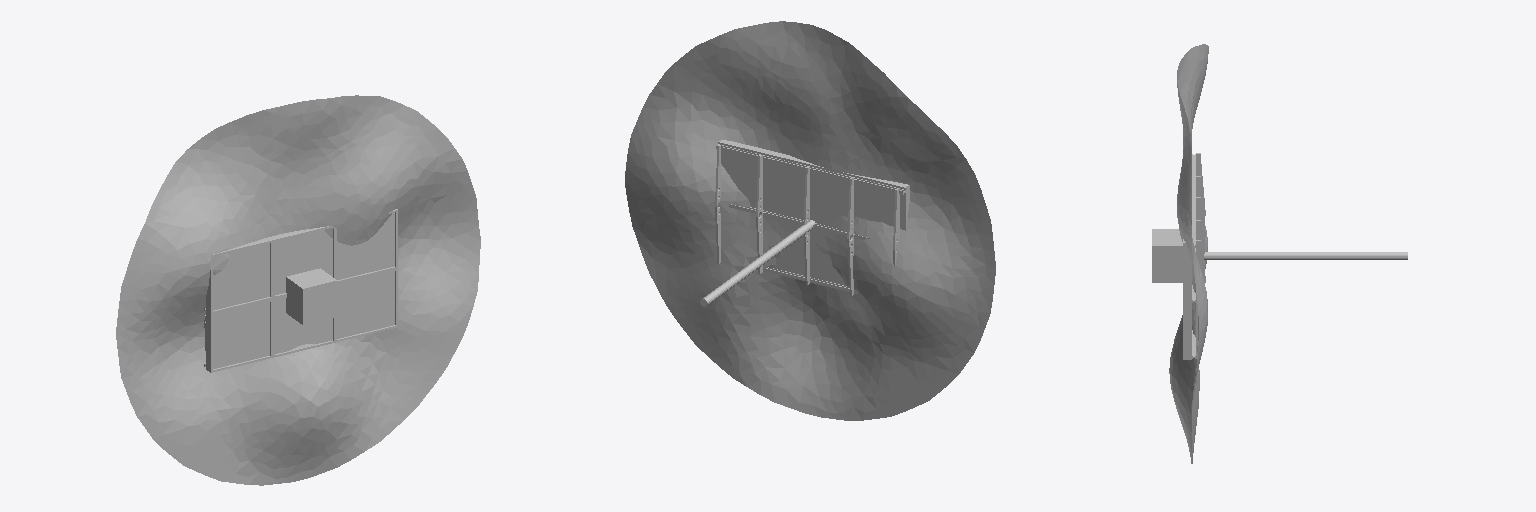
3 renders of one model, left to right at view 1: azimuth 30°, elevation 25°; view 2: azimuth 150°, elevation 25°; view 3: azimuth 270°, elevation 25°, orthographic.
Parts seen in each view (by area): view 1: Circle001, Panel, Box002; view 2: Circle001, Panel, Cylinder002; view 3: Circle001, Panel, Box002, Cylinder002.
Boxes of the visible parts, <box> form: Circle001: <box>116,95,480,485</box>; Panel: <box>204,209,397,372</box>; Box002: <box>286,268,336,324</box>; Circle001: <box>625,21,995,420</box>; Panel: <box>715,140,909,295</box>; Cylinder002: <box>700,220,814,306</box>; Circle001: <box>1169,44,1208,463</box>; Panel: <box>1183,153,1205,359</box>; Box002: <box>1152,229,1182,282</box>; Cylinder002: <box>1204,252,1407,259</box>.
Bounding box in the file's own units: 984 × 980 × 593.